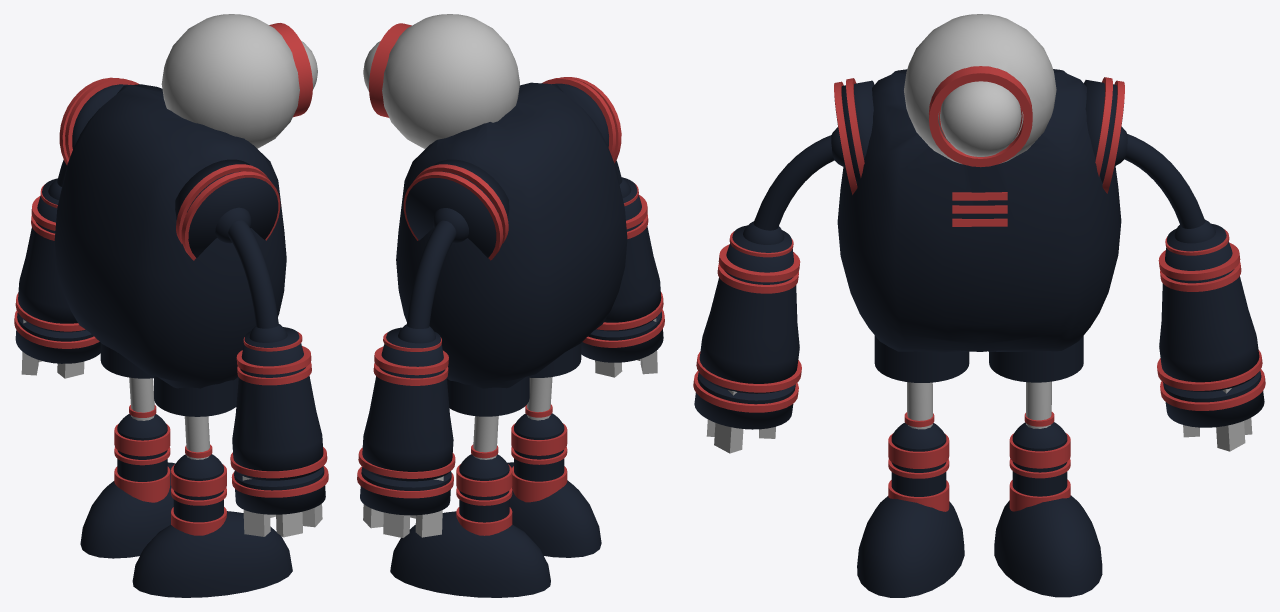
Rendered from Lava Robot.fbx.
3 renders of one model, left to right at view 1: azimuth 30°, elevation 25°; view 2: azimuth 150°, elevation 25°; view 3: azimuth 270°, elevation 25°, orthographic. The views are drawn at different scales.
Visible parts, largest first — view 1: Sphere, Connect, Sphere_2, Sphere_3, Oil_Tank, Cylinder, Tube_2_3, Tube_4, Tube_4_2, Sweep, Tube_2, Tube_6 (+8 smaller); view 2: Sphere, Connect, Sphere_2, Sphere_3, Oil_Tank, Cylinder_1, Tube_2_3, Tube_4, Tube_4_2, Tube_2, Sweep, Tube_6 (+8 smaller); view 3: Sphere, Connect, Sphere_2, Sphere_3, Oil_Tank, Sphere_4, Tube_3_3, Cylinder, Cylinder_1, Tube_2_3, Tube_5, Tube_6 (+9 smaller).
Part boxes in pixels (left/top/right/bottom): Sphere: left=54, top=84, right=286, bottom=388; Connect: left=15, top=84, right=325, bottom=514; Sphere_2: left=80, top=462, right=292, bottom=597; Sphere_3: left=161, top=14, right=299, bottom=148; Oil_Tank: left=117, top=414, right=223, bottom=522; Cylinder: left=154, top=376, right=238, bottom=416; Tube_2_3: left=114, top=423, right=226, bottom=496; Tube_4: left=65, top=78, right=269, bottom=243; Tube_4_2: left=114, top=466, right=226, bottom=535; Sweep: left=129, top=377, right=209, bottom=459; Tube_2: left=59, top=77, right=280, bottom=260; Tube_6: left=14, top=310, right=328, bottom=497; Sphere: left=396, top=82, right=627, bottom=388; Connect: left=360, top=83, right=663, bottom=515; Sphere_2: left=390, top=462, right=601, bottom=597; Sphere_3: left=382, top=14, right=519, bottom=148; Oil_Tank: left=459, top=413, right=564, bottom=522; Cylinder_1: left=447, top=376, right=529, bottom=416; Tube_2_3: left=456, top=423, right=567, bottom=496; Tube_4: left=413, top=77, right=615, bottom=243; Tube_4_2: left=456, top=466, right=567, bottom=535; Tube_2: left=403, top=77, right=621, bottom=260; Sweep: left=473, top=377, right=552, bottom=459; Tube_6: left=357, top=309, right=664, bottom=498; Sphere: left=837, top=69, right=1121, bottom=352; Connect: left=694, top=80, right=1264, bottom=429; Sphere_2: left=857, top=495, right=1102, bottom=597; Sphere_3: left=904, top=14, right=1056, bottom=163; Oil_Tank: left=891, top=422, right=1067, bottom=496; Sphere_4: left=940, top=81, right=1021, bottom=156; Tube_3_3: left=928, top=66, right=1032, bottom=167; Cylinder: left=874, top=335, right=969, bottom=382; Cylinder_1: left=989, top=336, right=1083, bottom=382; Tube_2_3: left=888, top=433, right=1070, bottom=468; Tube_5: left=696, top=350, right=1262, bottom=392; Tube_6: left=693, top=369, right=1265, bottom=412.
Size of the model in its own units: 396 by 862 by 789.
